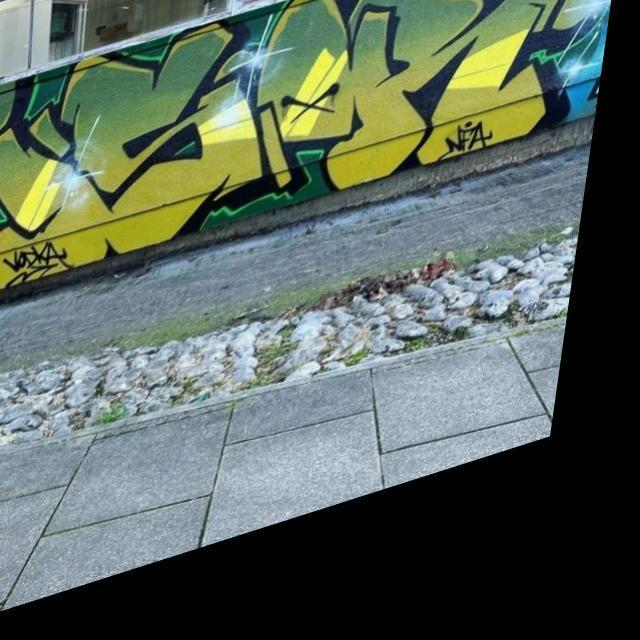nonspitting: (0, 0, 598, 290), (2, 240, 72, 290), (435, 119, 493, 165)
